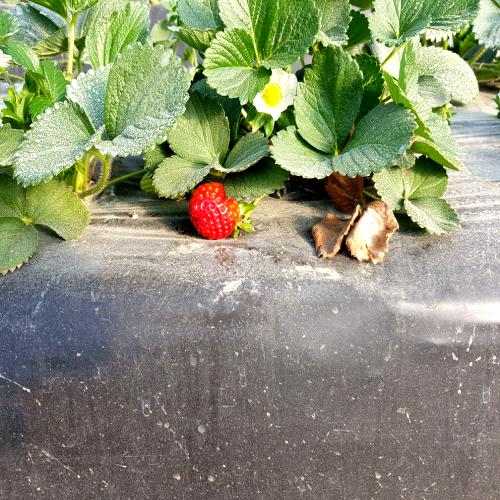ripe: (188, 165, 242, 246)
